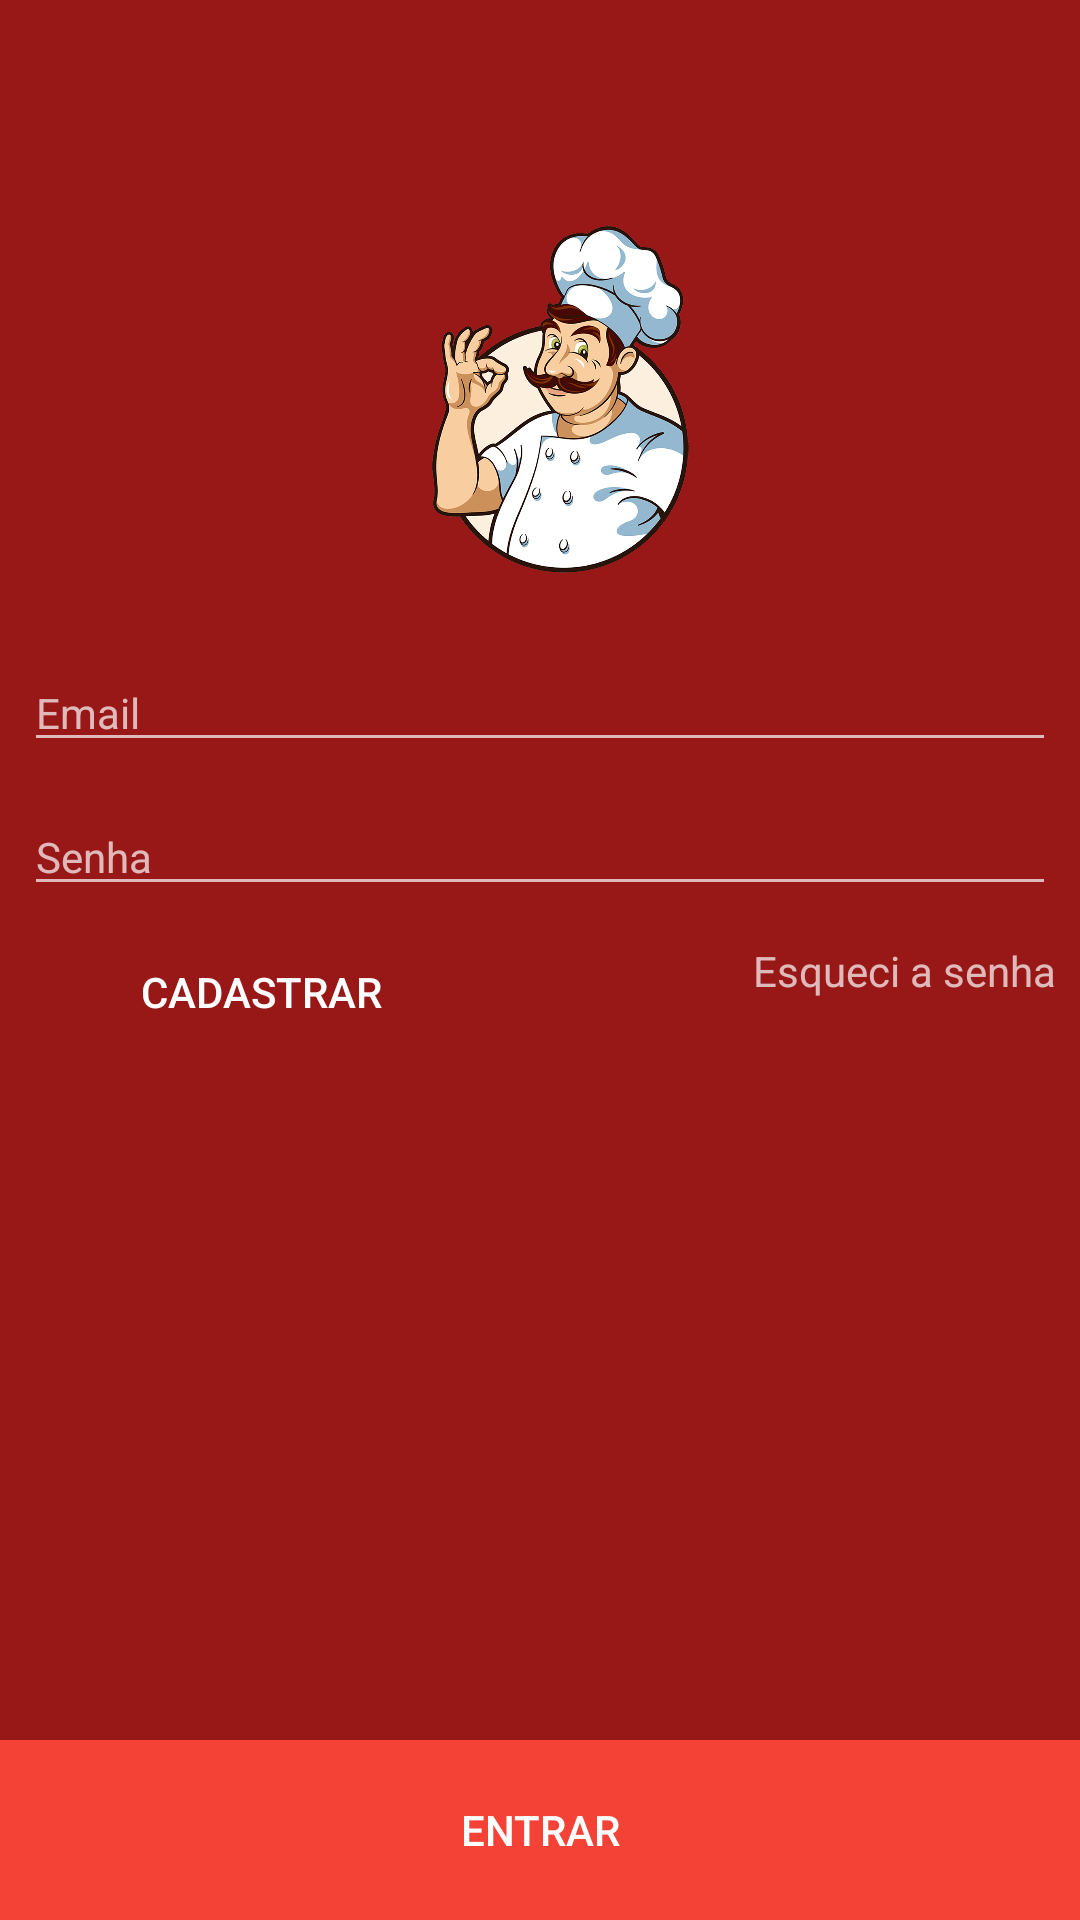

Icons on this 1080px x 1920px Android screen, each with its box as (x1, y1, x2, y2):
Restaurante do Chef: (432, 225, 689, 573)
